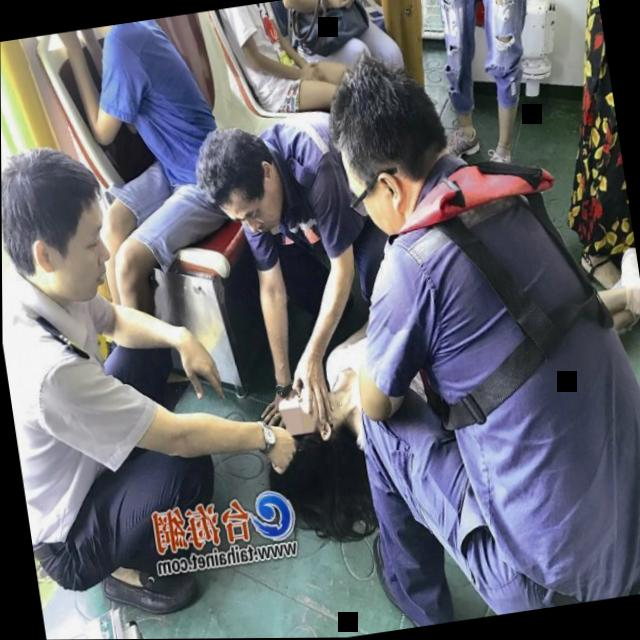Fall-Detected: (226, 286, 442, 498)
